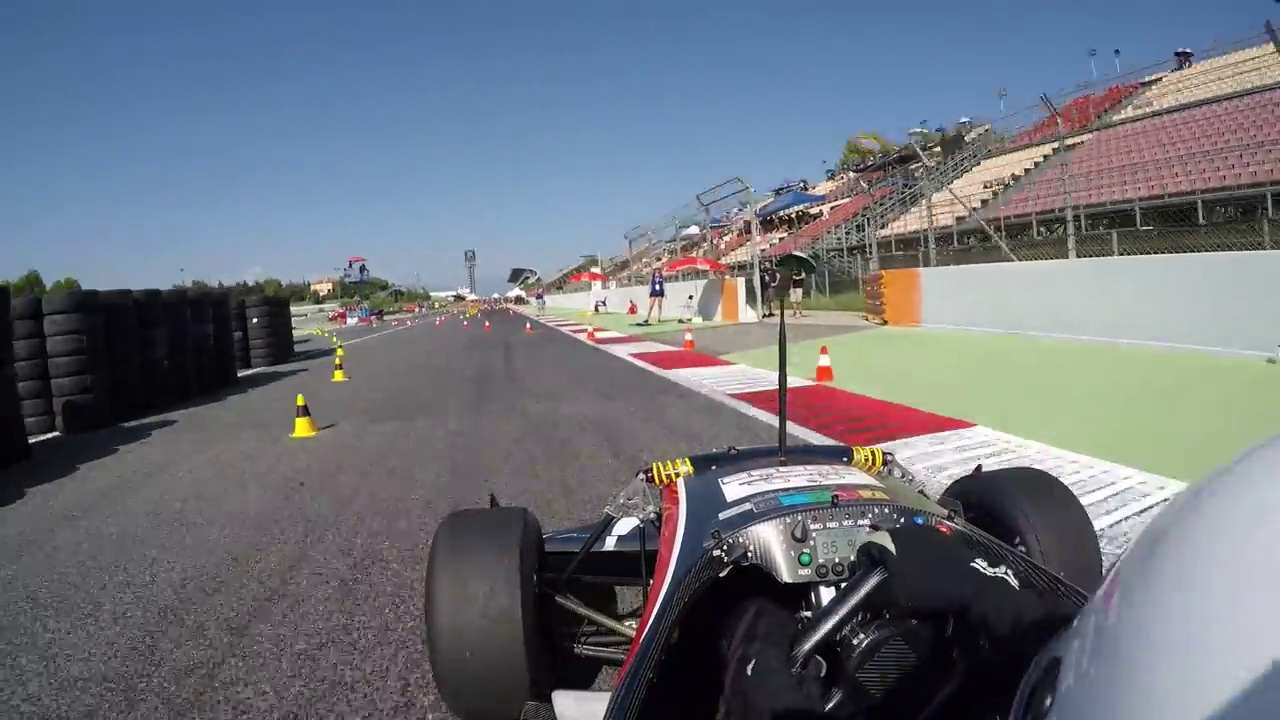Cone: (288, 389, 321, 440), (811, 342, 838, 382)
